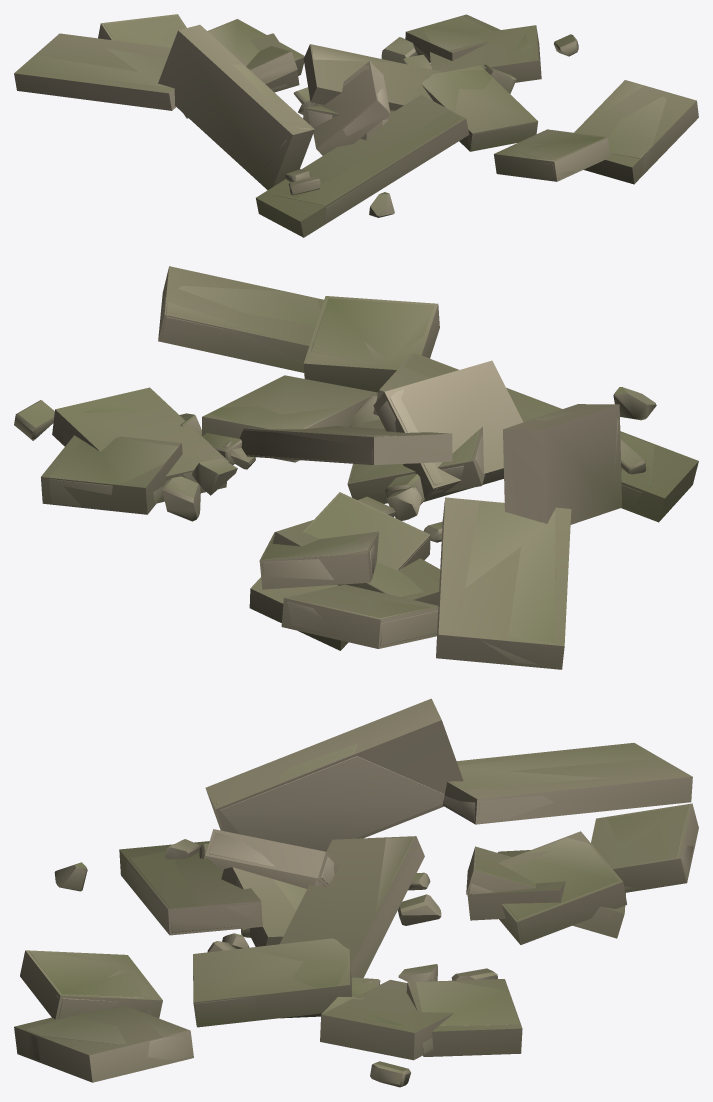
The model's file is agora_roof_rubble.glb.
3 views of the same model, one above another, from view 1: azimuth 30°, elevation 25°; view 2: azimuth 150°, elevation 25°; view 3: azimuth 270°, elevation 25° (orthographic). The views are drawn at different scales.
Parts seen in each view (by area): view 1: agora_roof_rubble_far, agora_roof_rubble; view 2: agora_roof_rubble_far, agora_roof_rubble; view 3: agora_roof_rubble_far, agora_roof_rubble.
Part boxes in pixels (<box>): agora_roof_rubble_far: <box>14,14,698,237</box>; agora_roof_rubble: <box>19,15,666,223</box>; agora_roof_rubble_far: <box>41,266,698,669</box>; agora_roof_rubble: <box>14,286,656,664</box>; agora_roof_rubble_far: <box>14,698,698,1082</box>; agora_roof_rubble: <box>21,743,693,1087</box>.
Size of the model in its own units: 19.85 by 4.93 by 18.01.
